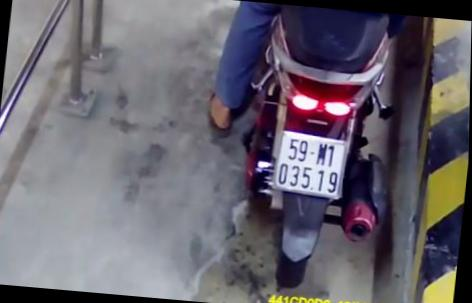LP: (272, 129, 351, 200)
